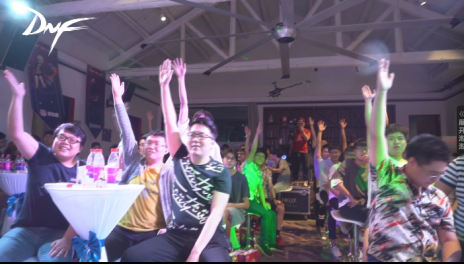handsup: (367, 49, 459, 259), (154, 55, 247, 258), (2, 64, 97, 256), (107, 65, 174, 255)
